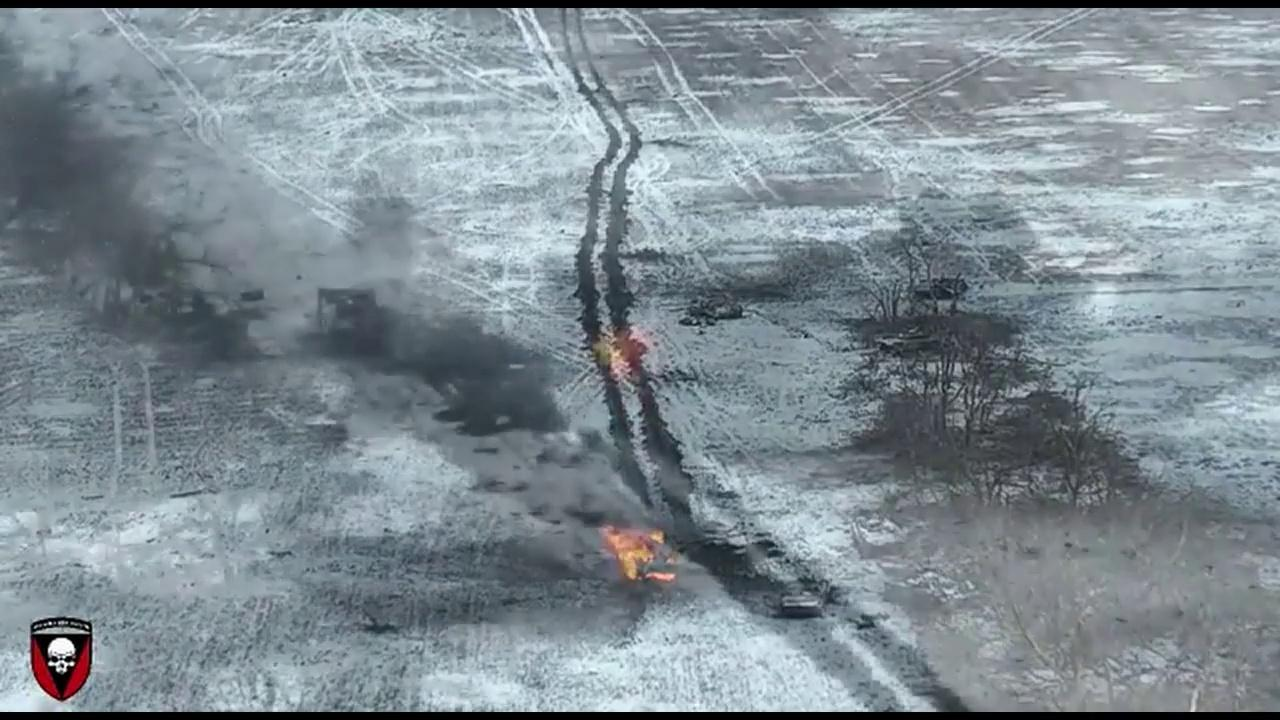vehicle: (160, 300, 247, 358), (313, 284, 382, 355), (878, 327, 944, 353), (681, 296, 743, 320), (916, 277, 968, 300), (780, 592, 824, 618)
